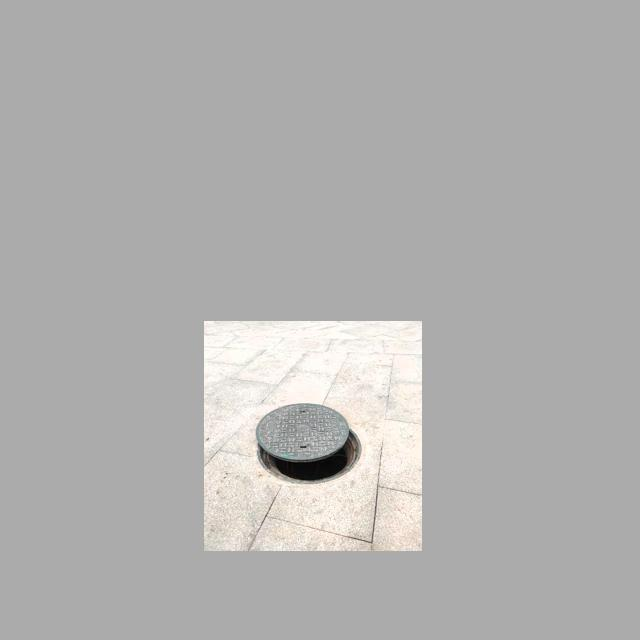uncovered: (257, 404, 363, 483)
